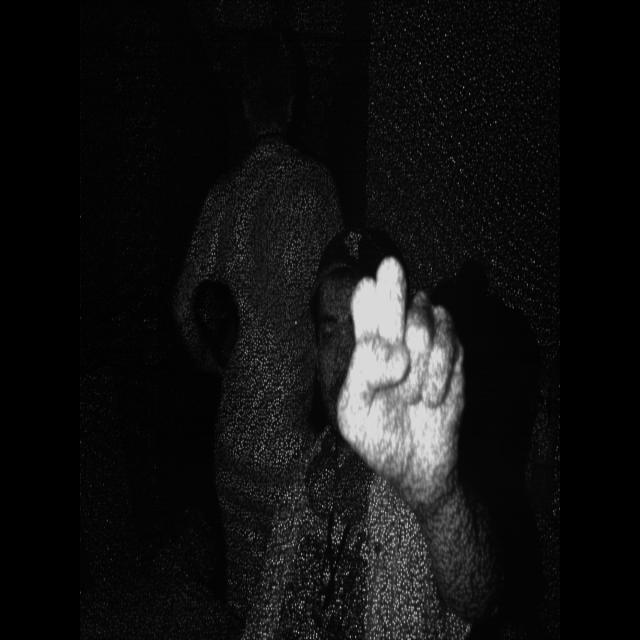S: (330, 240, 476, 502)
